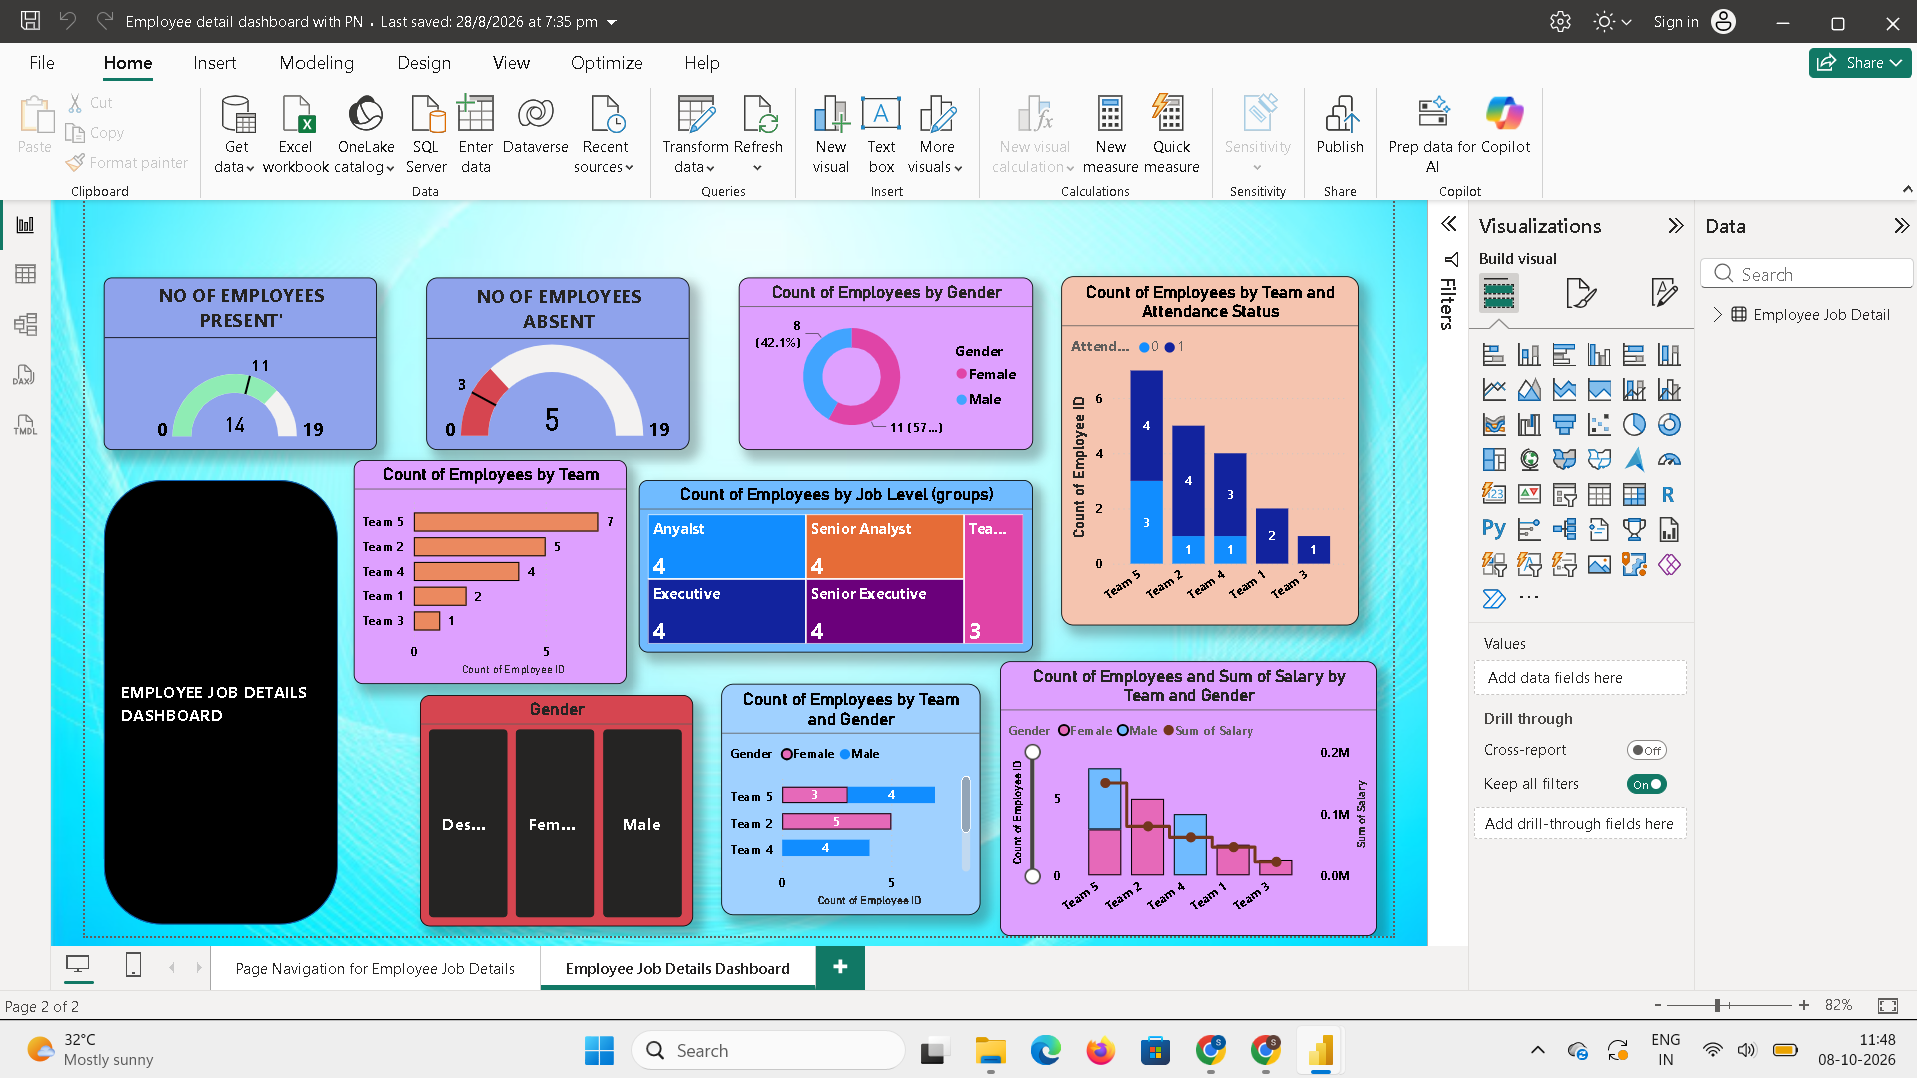

What the dashboard file says about the page in this screenshot:
{"tool":"powerbi","page":{"name":"Employee Job Details Dashboard","canvas":[1280,720],"ordinal":1},"visuals":[{"type":"gauge","title":"NO OF EMPLOYEES PRESENT''","fields":{"Y":["Employee Job Detail.Present Count"],"MaxValue":["CountNonNull(Employee Job Detail.Name)"]},"box":[17.8,75.5,267.6,168.8],"z":0},{"type":"gauge","title":"NO OF EMPLOYEES ABSENT","fields":{"Y":["Employee Job Detail.Absent Count"],"MaxValue":["CountNonNull(Employee Job Detail.Name)"]},"box":[333.4,75.5,258,168.8],"z":1000},{"type":"donutChart","title":"Count of Employees by Gender","fields":{"Category":["Employee Job Detail.Gender"],"Y":["CountNonNull(Employee Job Detail.Name)"]},"box":[639.5,75.5,288.2,168.8],"z":2000},{"type":"barChart","title":"Count of Employees by Team","fields":{"Category":["Employee Job Detail.Team"],"Y":["CountNonNull(Employee Job Detail.Employee ID)"]},"box":[263.5,253.9,267.6,219.6],"z":3000},{"type":"treemap","title":"Count of Employees by Job Level (groups)","fields":{"Values":["CountNonNull(Employee Job Detail.Employee ID)"],"Group":["Employee Job Detail.Job Level (groups)"]},"box":[542,274.4,385.6,168.8],"z":4000},{"type":"columnChart","title":"Count of Employees  by Team and Attendance Status","fields":{"Category":["Employee Job Detail.Team"],"Y":["CountNonNull(Employee Job Detail.Employee ID)"],"Series":["Employee Job Detail.Attendance Status"]},"box":[955.1,74.1,290.9,341.7],"z":5000},{"type":"lineStackedColumnComboChart","title":"Count of Employees and Sum of Salary by Team and Gender","fields":{"Category":["Employee Job Detail.Team"],"Y":["CountNonNull(Employee Job Detail.Employee ID)"],"Y2":["Sum(Employee Job Detail.Salary)"],"Series":["Employee Job Detail.Gender"]},"box":[894.7,451.5,369.1,269],"z":6000},{"type":"advancedSlicerVisual","fields":{"Values":["Employee Job Detail.Gender"]},"box":[328,484.4,267.6,226.4],"z":7000},{"type":"barChart","title":"Count of Employees  by Team and Gender","fields":{"Series":["Employee Job Detail.Gender"],"Category":["Employee Job Detail.Team"],"Y":["CountNonNull(Employee Job Detail.Employee ID)"]},"box":[623,473.4,253.9,226.4],"z":8000},{"type":"shape","box":[17.8,274.4,229.2,435],"z":9000}]}

Visuals, with their boxes on the page's 1280x720 design canvas (x1, y1, x2, y2). These are canvas units, not pixel positions in the 1917x1078 screenshot, which may show the page scaled, cropped or inside an application window:
"NO OF EMPLOYEES PRESENT''" gauge: x1=18 y1=76 x2=285 y2=244
"NO OF EMPLOYEES ABSENT" gauge: x1=333 y1=76 x2=591 y2=244
"Count of Employees by Gender" donutChart: x1=640 y1=76 x2=928 y2=244
"Count of Employees by Team" barChart: x1=264 y1=254 x2=531 y2=474
"Count of Employees by Job Level (groups)" treemap: x1=542 y1=274 x2=928 y2=443
"Count of Employees  by Team and Attendance Status" columnChart: x1=955 y1=74 x2=1246 y2=416
"Count of Employees and Sum of Salary by Team and Gender" lineStackedColumnComboChart: x1=895 y1=452 x2=1264 y2=720
advancedSlicerVisual - Employee Job Detail.Gender: x1=328 y1=484 x2=596 y2=711
"Count of Employees  by Team and Gender" barChart: x1=623 y1=473 x2=877 y2=700
shape: x1=18 y1=274 x2=247 y2=709
